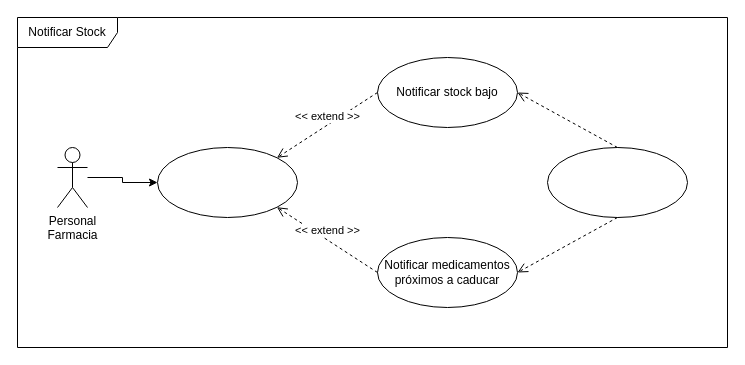
The diagram is 745 pixels wide and 365 high, and some of its shapes have lost their labels. Each missing label, with the centre of its shape:
"Regresar lista de medicamentos" belongs at (617,182).
"Ver Inventario" belongs at (227,182).
